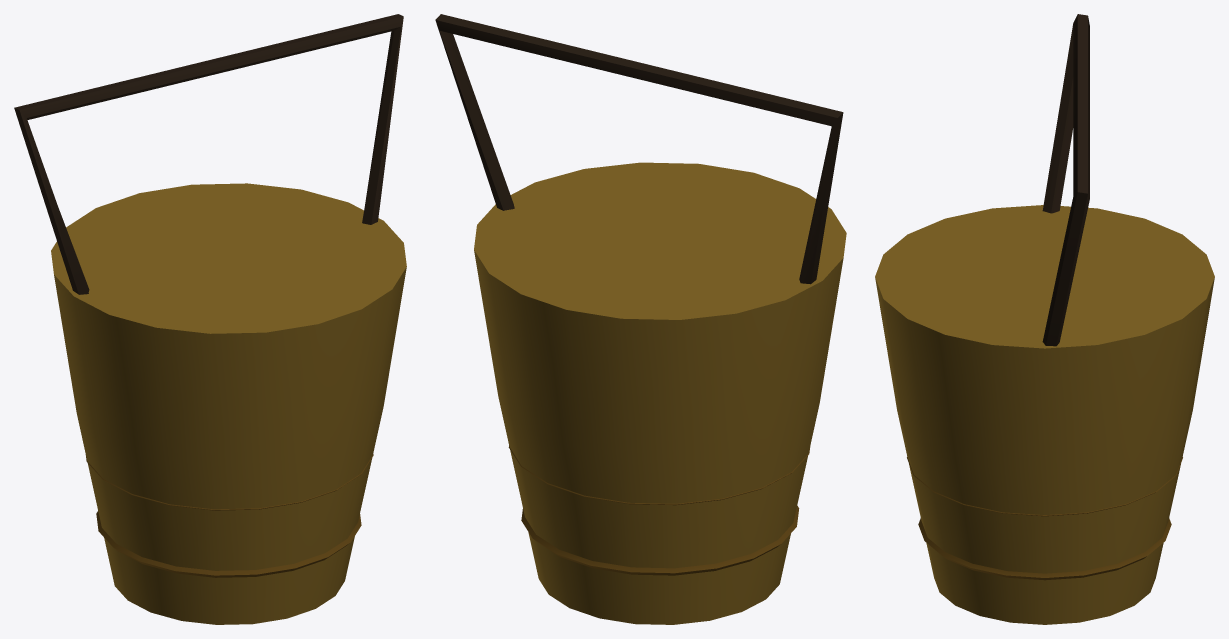
File: hz-tea-basket.glb
The picture shows the model from 3 angles, left to right: view 1: azimuth 30°, elevation 25°; view 2: azimuth 150°, elevation 25°; view 3: azimuth 270°, elevation 25°; orthographic projection. The views are drawn at different scales.
Visible parts, largest first — view 1: basket__bamboo, strap__fabric, rim__bamboo; view 2: basket__bamboo, strap__fabric, rim__bamboo; view 3: basket__bamboo, strap__fabric, rim__bamboo.
Part boxes in pixels (box(x1,y1,x2,y2)): basket__bamboo: box(51, 183, 406, 624); strap__fabric: box(14, 14, 403, 294); rim__bamboo: box(86, 454, 373, 577); basket__bamboo: box(474, 162, 846, 624); strap__fabric: box(435, 14, 843, 284); rim__bamboo: box(508, 446, 810, 575); basket__bamboo: box(875, 205, 1214, 624); strap__fabric: box(1042, 14, 1089, 346); rim__bamboo: box(907, 457, 1182, 580).
Size of the model in its own units: 0.5704 by 0.7092 by 0.46.
